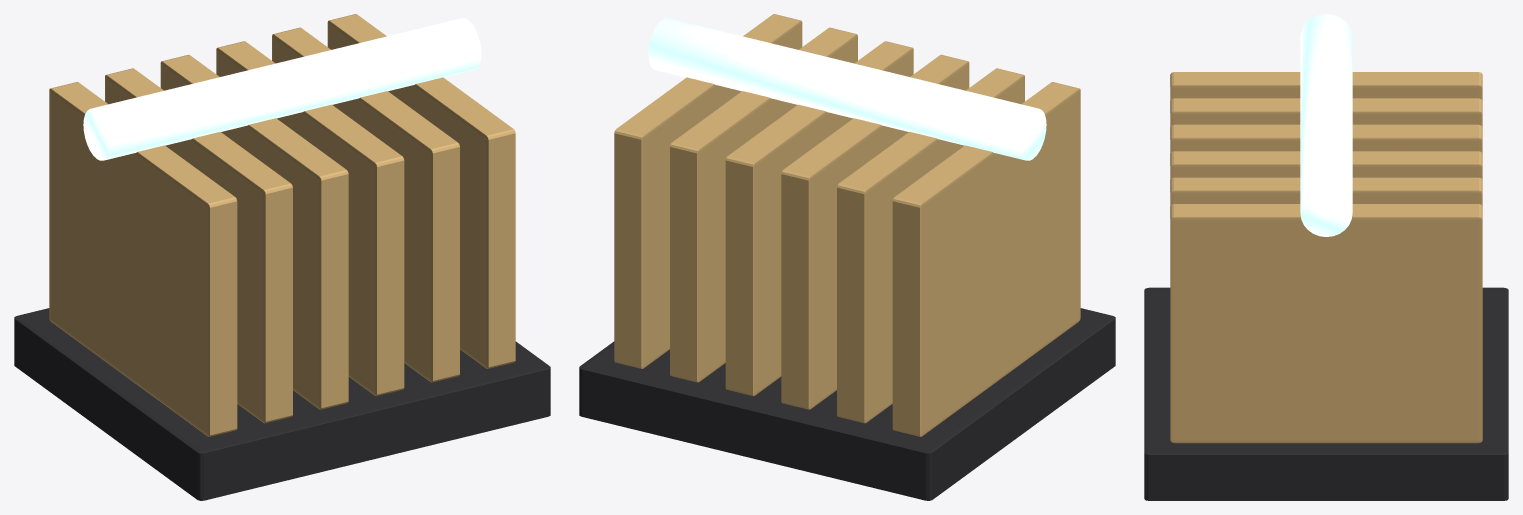
Rendered from cooler.glb.
3 views of the same model, side by side, from view 1: azimuth 30°, elevation 25°; view 2: azimuth 150°, elevation 25°; view 3: azimuth 270°, elevation 25° (orthographic). The views are drawn at different scales.
Parts seen in each view (by area): view 1: machines/cooler; view 2: machines/cooler; view 3: machines/cooler.
Boxes of the visible parts, x1=… form: machines/cooler: x1=14, y1=14, x2=550, y2=500; machines/cooler: x1=579, y1=14, x2=1115, y2=500; machines/cooler: x1=1144, y1=14, x2=1508, y2=500.
Size of the model in its own units: 0.8 by 0.67 by 0.7.
